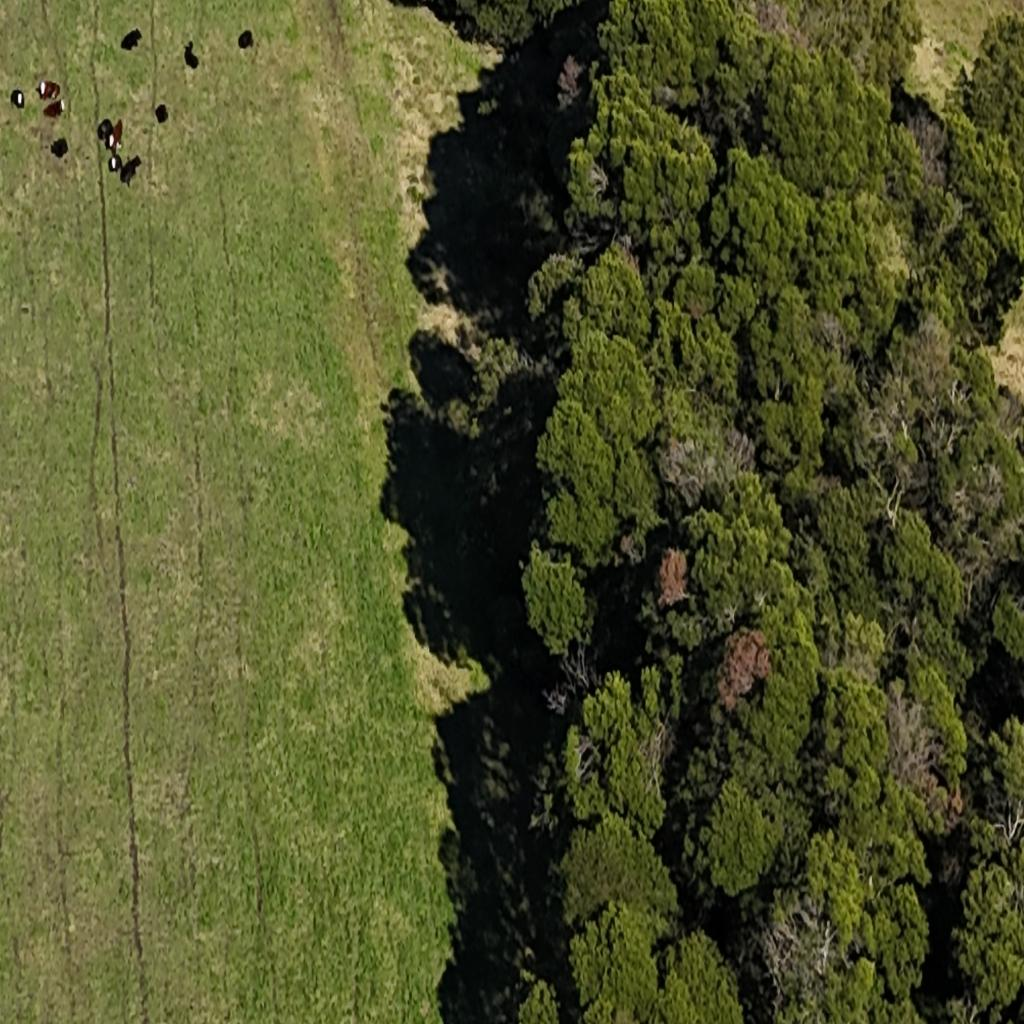cow: (120, 155, 141, 187), (120, 28, 142, 52), (42, 100, 65, 122), (108, 119, 123, 150), (98, 117, 113, 147), (39, 79, 61, 99), (50, 137, 68, 159), (184, 42, 199, 68), (238, 30, 254, 51), (107, 152, 123, 172), (154, 103, 168, 124), (11, 89, 25, 110)
